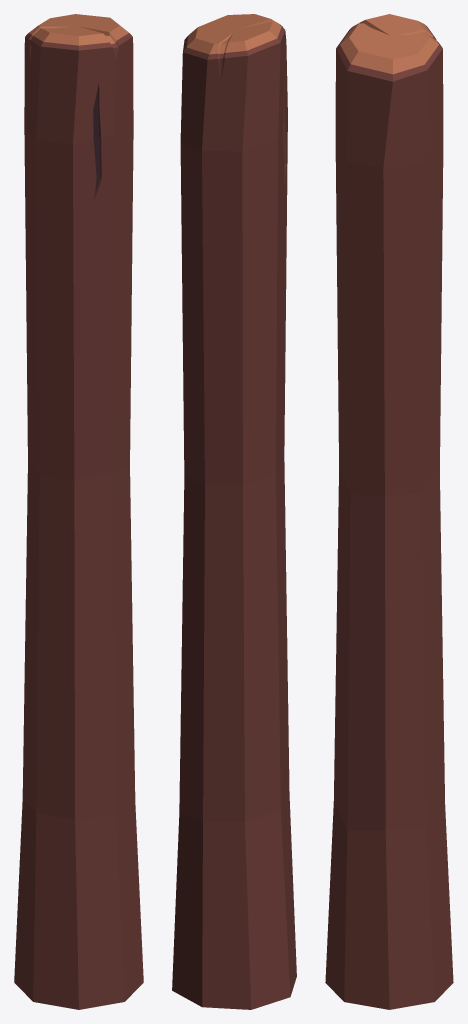
The model's file is Wooden Pole Blunt 11.fbx.
3 views of the same model, side by side, from view 1: azimuth 90°, elevation 25°; view 2: azimuth 150°, elevation 25°; view 3: azimuth 270°, elevation 25° (orthographic).
Visible parts, largest first — view 1: Wooden Pole Blunt 11; view 2: Wooden Pole Blunt 11; view 3: Wooden Pole Blunt 11.
Boxes of the visible parts, <box> form: Wooden Pole Blunt 11: <box>14,14,143,1009</box>; Wooden Pole Blunt 11: <box>172,14,296,1009</box>; Wooden Pole Blunt 11: <box>325,14,453,1009</box>.
Size of the model in its own units: 34.2 by 281 by 34.2.
